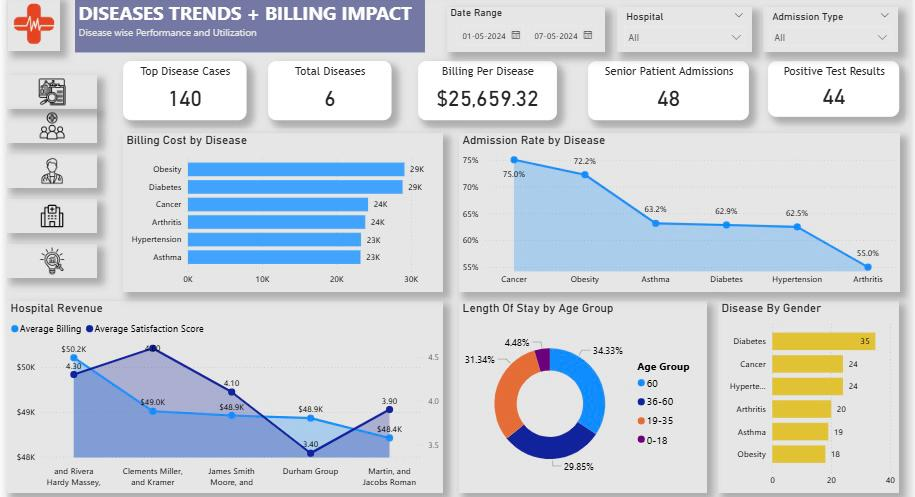

The page's visual inventory and layout, read from the dashboard file:
{"tool":"powerbi","page":{"name":"Page 4","canvas":[1280,720],"ordinal":3},"visuals":[{"type":"shape","box":[0,32,160,688],"z":0},{"type":"image","box":[1.7,1.7,73.9,75.6],"z":1000},{"type":"image","box":[0,112,128,48],"z":2000},{"type":"image","box":[0,160,128,48],"z":3000},{"type":"image","box":[0,224,128,48],"z":4000},{"type":"image","box":[0,288,128,48],"z":5000},{"type":"image","box":[0,352,128,48],"z":6000},{"type":"card","title":"Top Disease Cases","fields":{"Values":["HospitalData.Disease Cases"]},"box":[164.6,92.4,174.7,84],"z":7000},{"type":"card","title":"Total Diseases ","fields":{"Values":["HospitalData.Total Diseases"]},"box":[369.6,92.4,174.7,84],"z":8000},{"type":"card","title":"Billing Per Disease","fields":{"Values":["HospitalData.Avg. Billing"]},"box":[582.9,92.4,196.5,84],"z":9000},{"type":"card","title":"Senior Patient Admissions","fields":{"Values":["HospitalData.Senior Admissions"]},"box":[823.1,92.4,228.5,84],"z":10000},{"type":"card","title":"Positive Test Results","fields":{"Values":["HospitalData.Positive Tests"]},"box":[1078.4,92.4,186.5,79],"z":11000},{"type":"barChart","title":"Billing Cost by Disease","fields":{"Category":["HospitalData.Disease"],"Y":["Avg(HospitalData.Billing Cost)"]},"box":[164.6,194.9,453.5,225.1],"z":12000},{"type":"lineChart","fields":{"Category":["HospitalData.Disease"],"Y":["HospitalData.Admission Rate"]},"box":[640,194.9,624.9,225.1],"z":13000},{"type":"donutChart","title":"Length Of Stay by Age Group","fields":{"Category":["HospitalData.Age Group"],"Y":["Count(HospitalData.Length Of Stay)"]},"box":[640.6,432.3,351.5,272.1],"z":14000},{"type":"slicer","title":"Date Range ","fields":{"Values":["HospitalData.Admission Date"]},"box":[624,16,224,64],"z":15000},{"type":"slicer","fields":{"Values":["HospitalData.Admission Type"]},"box":[1072,16,192,64],"z":16000},{"type":"slicer","fields":{"Values":["HospitalData.Hospital"]},"box":[864,16,192,64],"z":17000},{"type":"clusteredBarChart","title":"Disease By Gender","fields":{"Category":["HospitalData.Disease"],"Y":["CountNonNull(HospitalData.Gender)"]},"box":[1008,432,256,272],"z":18000},{"type":"textbox","box":[96,0,496,80],"z":19000},{"type":"areaChart","title":"Hospital Revenue","fields":{"Category":["HospitalData.Hospital"],"Y":["HospitalData.Average Billing"],"Y2":["HospitalData.Average Satisfaction Score"]},"box":[0,432.3,618,272.1],"z":21000}]}

Visuals, with their boxes on the page's 1280x720 design canvas (x1, y1, x2, y2). These are canvas units, not pixel positions in the 915x497 screenshot, which may show the page scaled, cropped or inside an application window:
shape: box=[0, 32, 160, 720]
image: box=[2, 2, 76, 77]
image: box=[0, 112, 128, 160]
image: box=[0, 160, 128, 208]
image: box=[0, 224, 128, 272]
image: box=[0, 288, 128, 336]
image: box=[0, 352, 128, 400]
"Top Disease Cases" card: box=[165, 92, 339, 176]
"Total Diseases " card: box=[370, 92, 544, 176]
"Billing Per Disease" card: box=[583, 92, 779, 176]
"Senior Patient Admissions" card: box=[823, 92, 1052, 176]
"Positive Test Results" card: box=[1078, 92, 1265, 171]
"Billing Cost by Disease" barChart: box=[165, 195, 618, 420]
lineChart - HospitalData.Disease x HospitalData.Admission Rate: box=[640, 195, 1265, 420]
"Length Of Stay by Age Group" donutChart: box=[641, 432, 992, 704]
"Date Range " slicer: box=[624, 16, 848, 80]
slicer - HospitalData.Admission Type: box=[1072, 16, 1264, 80]
slicer - HospitalData.Hospital: box=[864, 16, 1056, 80]
"Disease By Gender" clusteredBarChart: box=[1008, 432, 1264, 704]
textbox: box=[96, 0, 592, 80]
"Hospital Revenue" areaChart: box=[0, 432, 618, 704]
